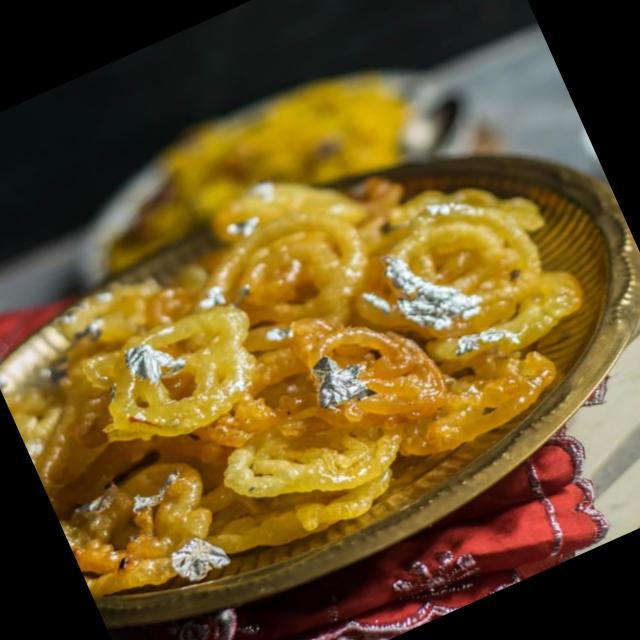jalebi: (0, 86, 609, 625)
